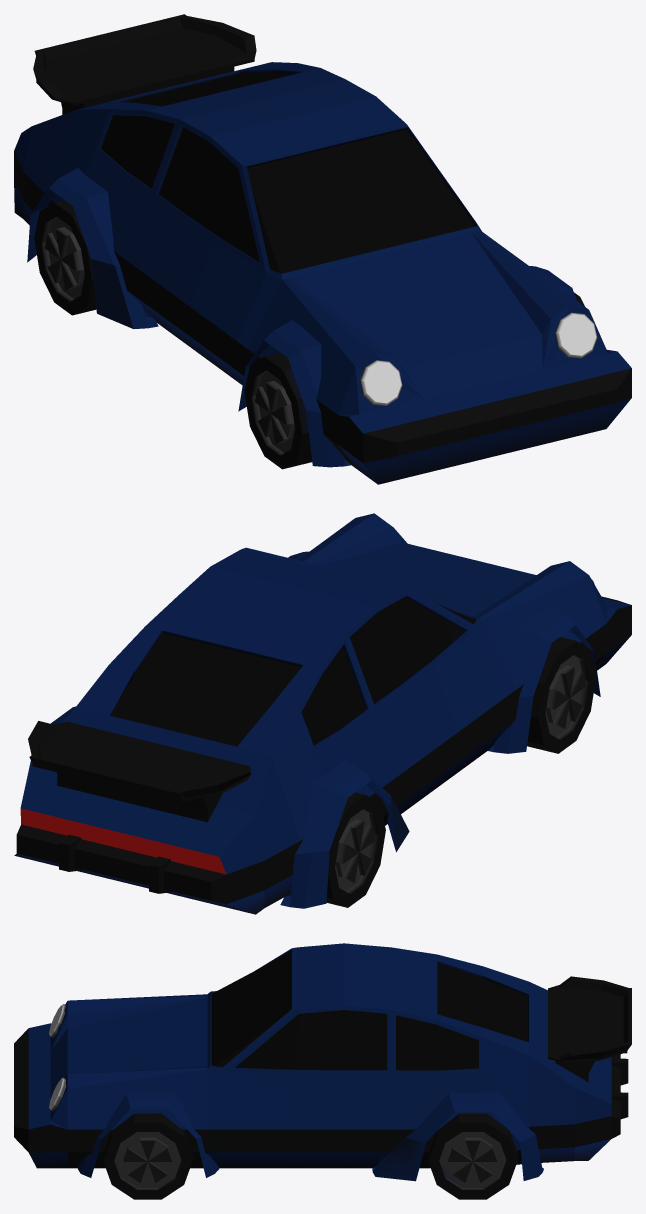
Rendered from SM_sportcar.FBX.
3 renders of one model, top to bottom at view 1: azimuth 30°, elevation 25°; view 2: azimuth 150°, elevation 25°; view 3: azimuth 270°, elevation 25°, orthographic. The views are drawn at different scales.
Visible parts, largest first — view 1: porsche001; view 2: porsche001; view 3: porsche001.
Part boxes in pixels (bbox=[...]): porsche001: bbox=[14, 14, 631, 484]; porsche001: bbox=[14, 513, 631, 914]; porsche001: bbox=[14, 943, 631, 1199].
Size of the model in its own units: 190 by 130 by 434.
